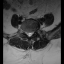CCS_normal: (28, 30, 30, 38)
LFS_normal: (33, 28, 35, 34)
LLS_normal: (30, 30, 33, 36)
RFS_normal: (23, 29, 26, 34)
RLS_normal: (26, 29, 28, 37)
